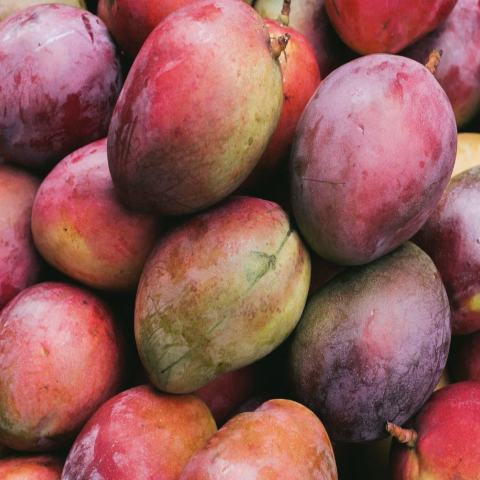mango: (85, 0, 303, 225), (288, 25, 462, 268), (111, 194, 332, 384), (281, 237, 461, 447)
